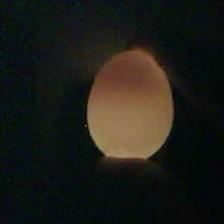infertile: (84, 47, 175, 164)
